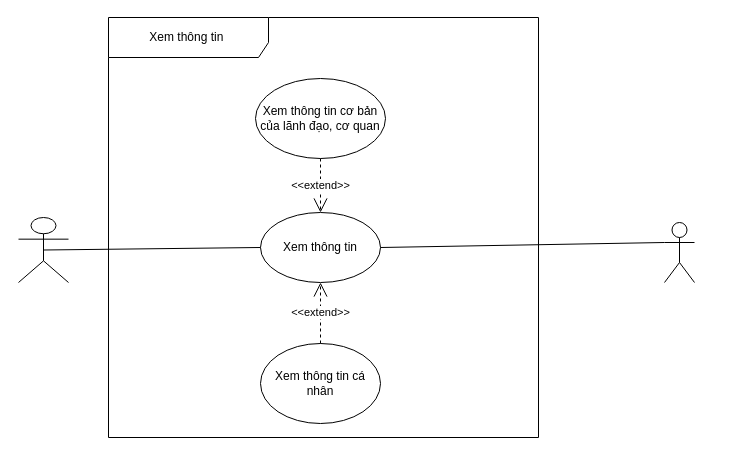
The diagram is 754 pixels wide and 455 high, and some of its shapes have lost their labels. The box of each missing label's shape, as (x1, y1, x2, y2) in pixels:
Công dân: (18, 216, 68, 282)
Cơ quan chính quyền: (664, 222, 694, 282)
